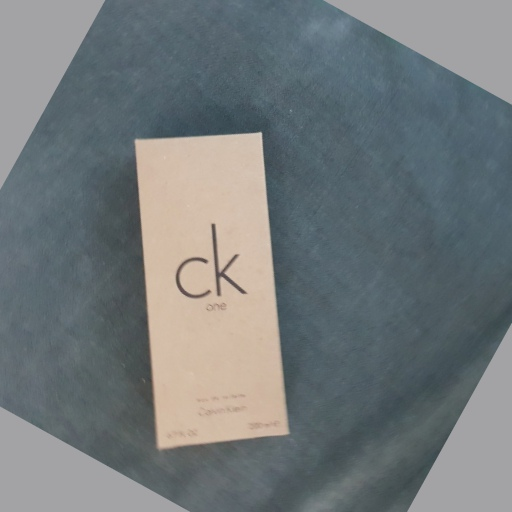Paper_0: (127, 129, 293, 463)
